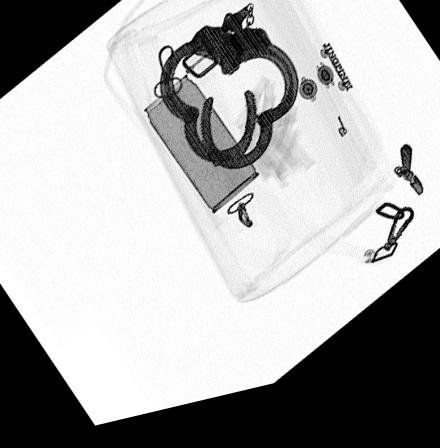HandCuffs: (156, 11, 301, 182)
